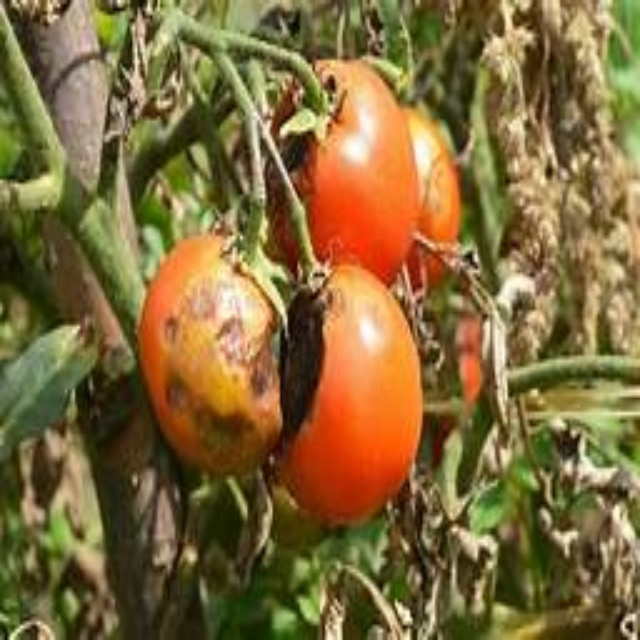tomato: (115, 238, 307, 488), (254, 266, 430, 529), (263, 55, 418, 283), (393, 104, 498, 298)
